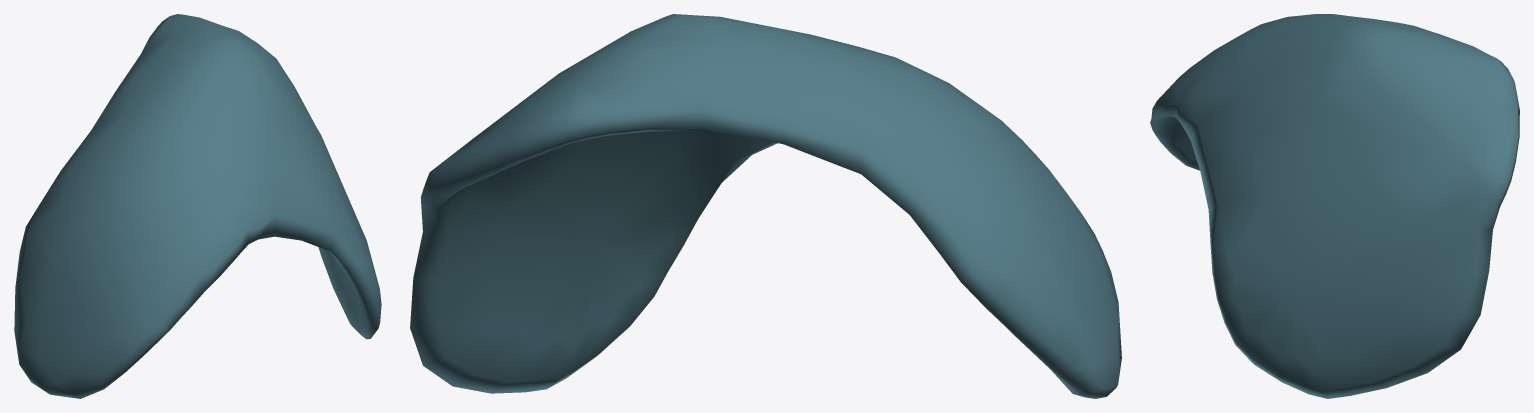
Rendered from Flexor_carpi_ulnaris-Insertion.r_Generated_Mesh_From_X3D.611.glb.
The picture shows the model from 3 angles, left to right: view 1: azimuth 30°, elevation 25°; view 2: azimuth 150°, elevation 25°; view 3: azimuth 270°, elevation 25°; orthographic projection. The views are drawn at different scales.
Parts seen in each view (by area): view 1: Flexor_carpi_ulnaris-Insertion.r_Generated_Mesh_From_X3D.611; view 2: Flexor_carpi_ulnaris-Insertion.r_Generated_Mesh_From_X3D.611; view 3: Flexor_carpi_ulnaris-Insertion.r_Generated_Mesh_From_X3D.611.
Part boxes in pixels (<box>): Flexor_carpi_ulnaris-Insertion.r_Generated_Mesh_From_X3D.611: <box>14,14,381,398</box>; Flexor_carpi_ulnaris-Insertion.r_Generated_Mesh_From_X3D.611: <box>410,14,1121,398</box>; Flexor_carpi_ulnaris-Insertion.r_Generated_Mesh_From_X3D.611: <box>1150,14,1519,398</box>.
Size of the model in its own units: 0.00904 by 0.00674 by 0.00726.
